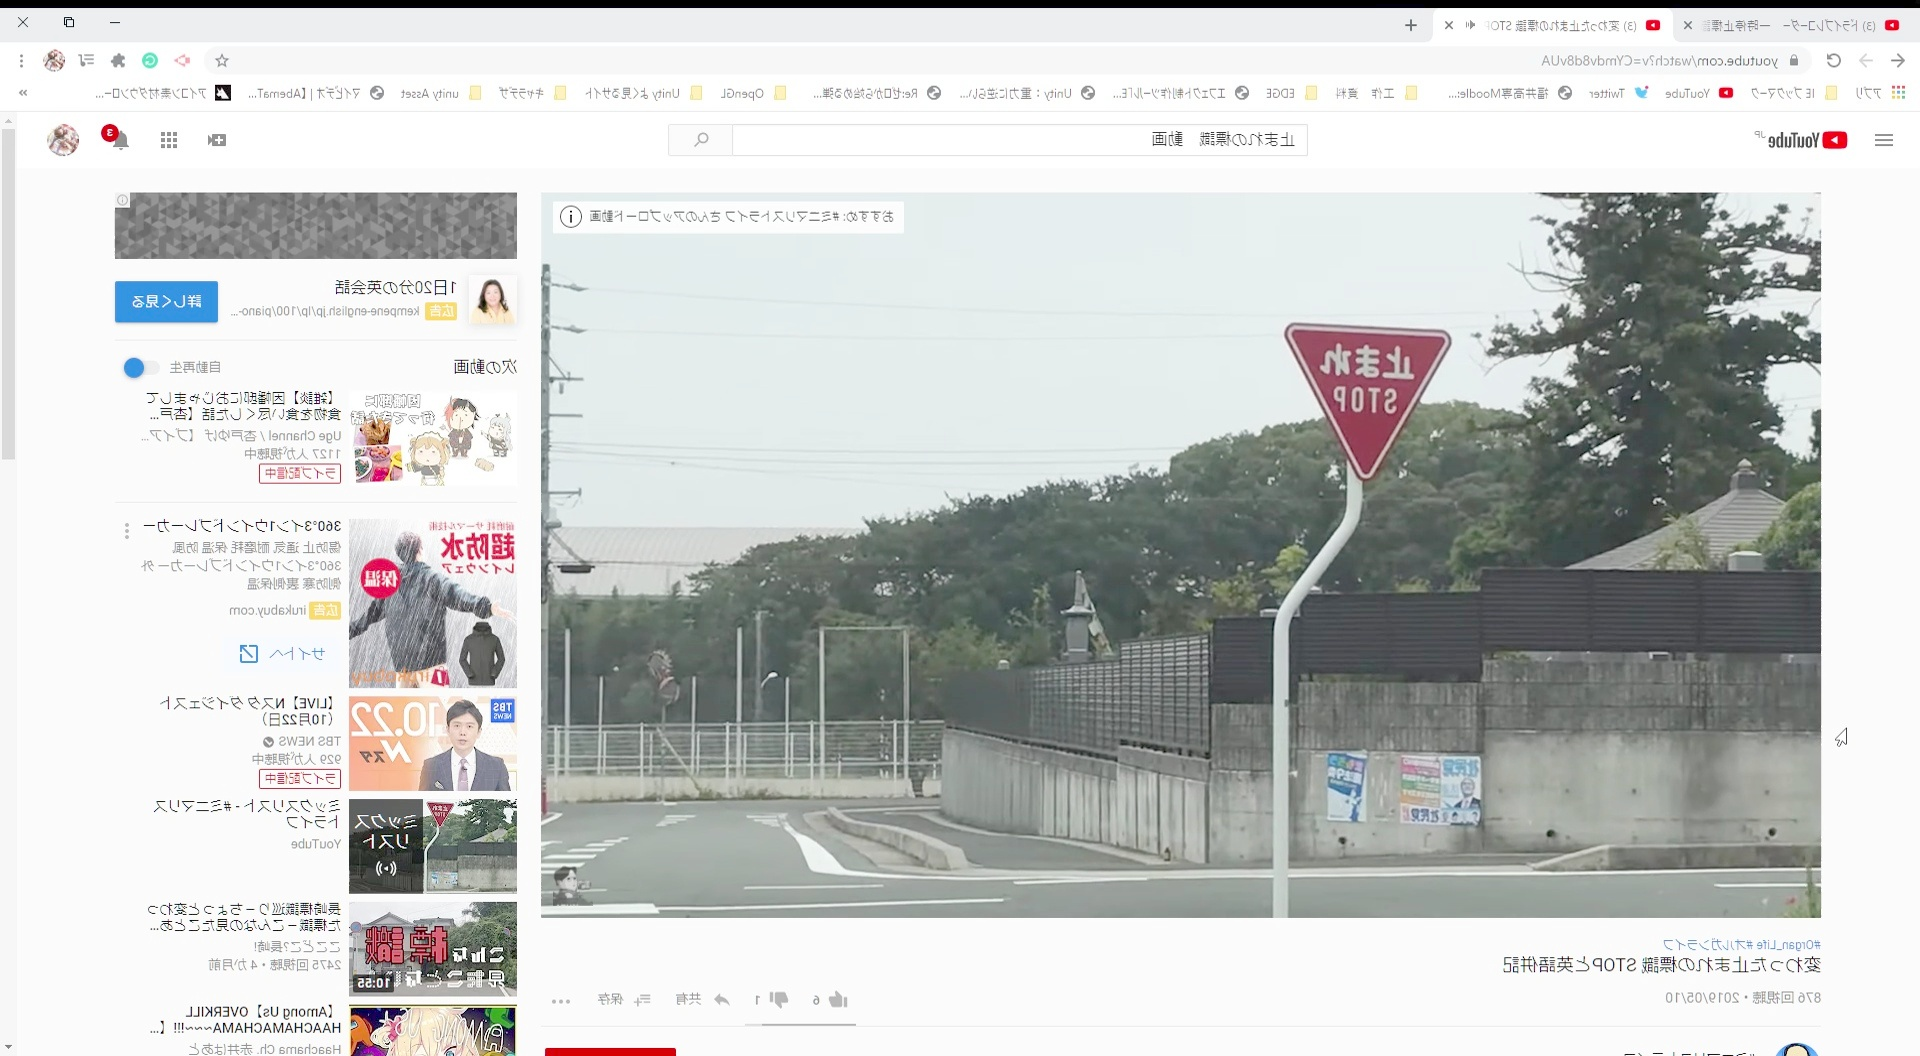Regulatory_sign_triangle: (1274, 294, 1477, 497)
